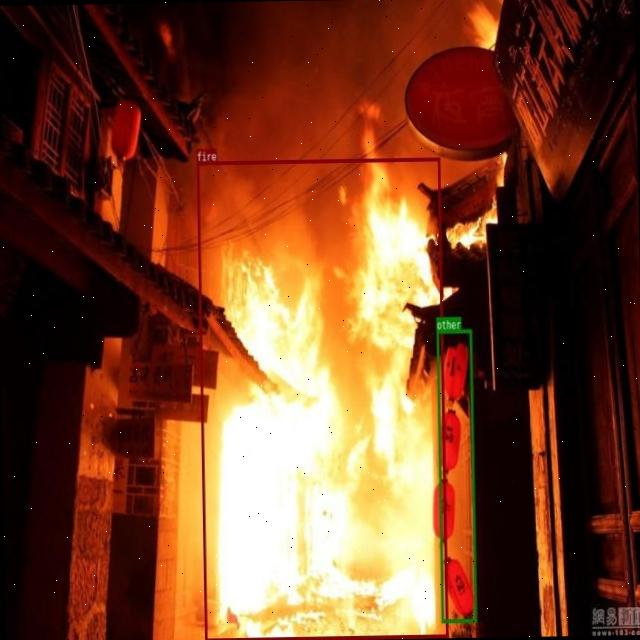fire: (196, 157, 446, 640)
